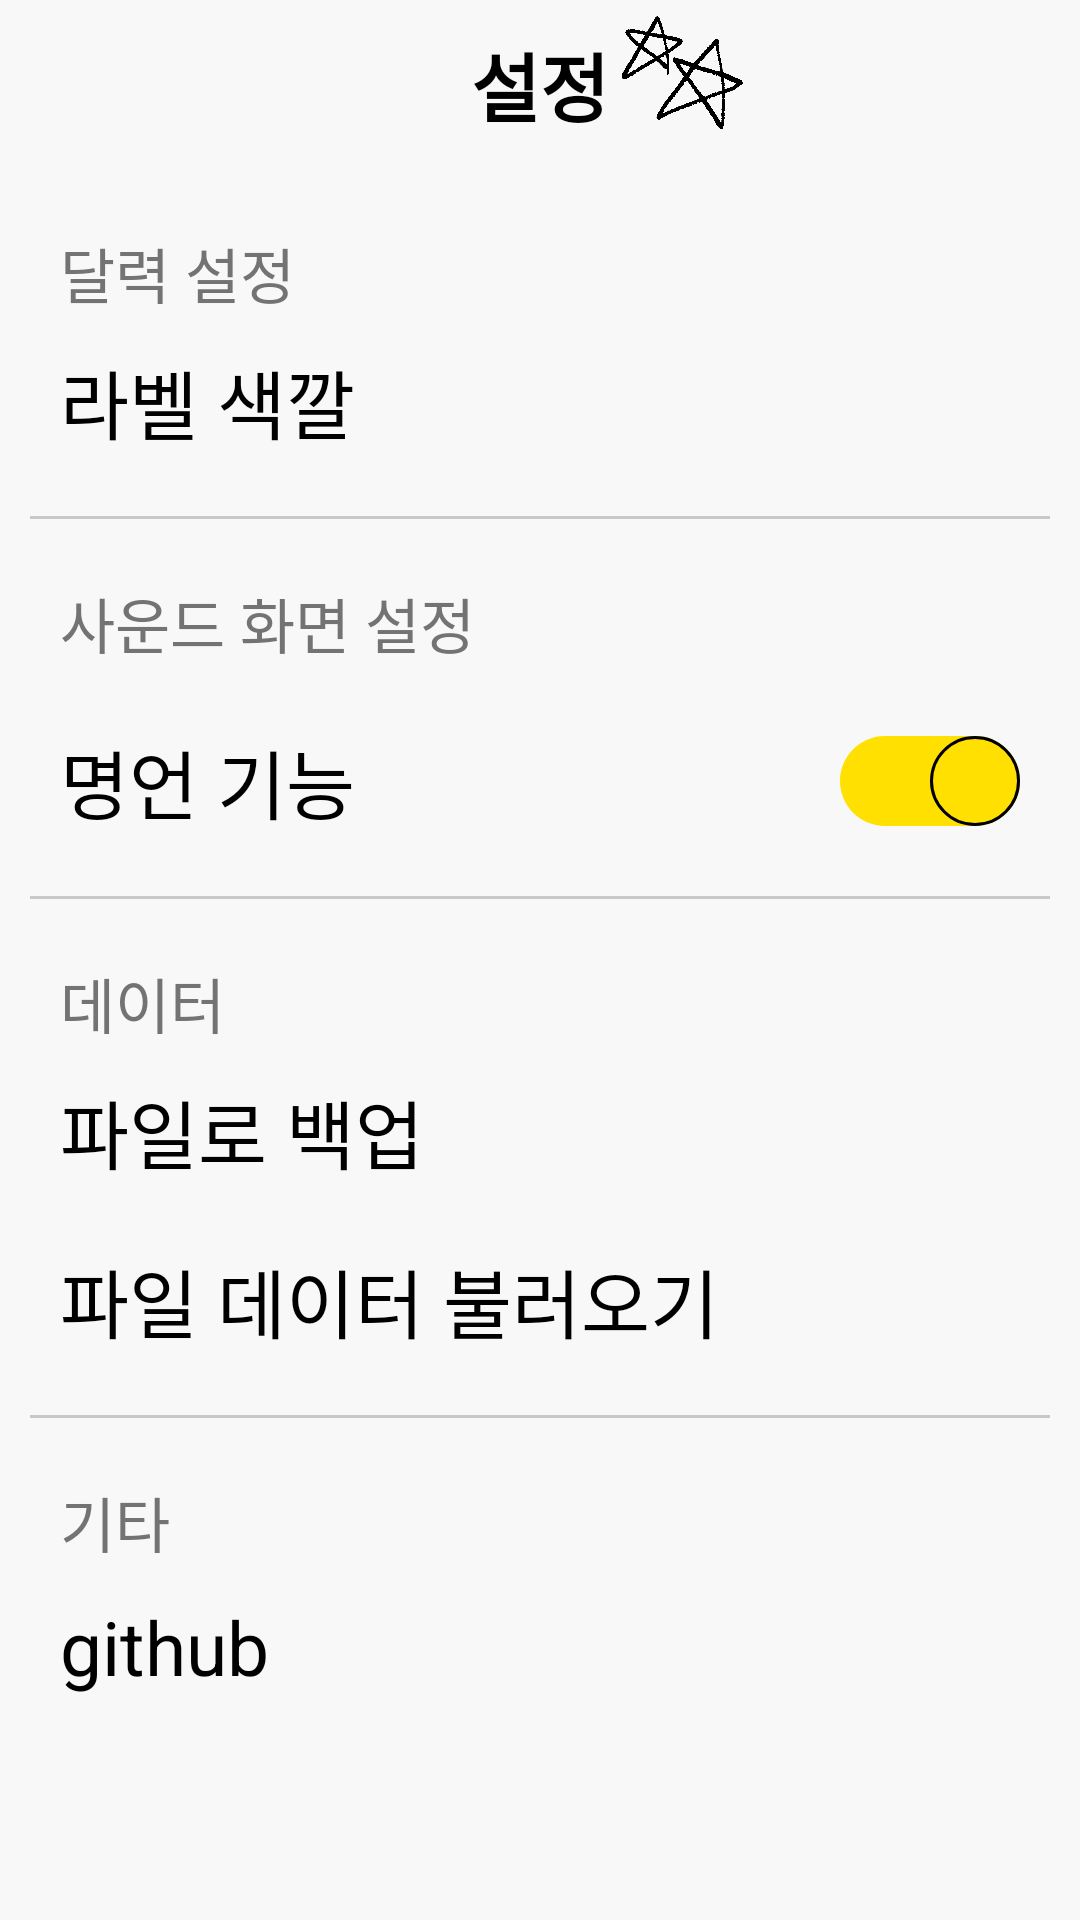

Icon bounding boxes for this 1080*1920 phone screenshot, format (x1, y1, x2, y2):
star: (622, 16, 743, 129)
